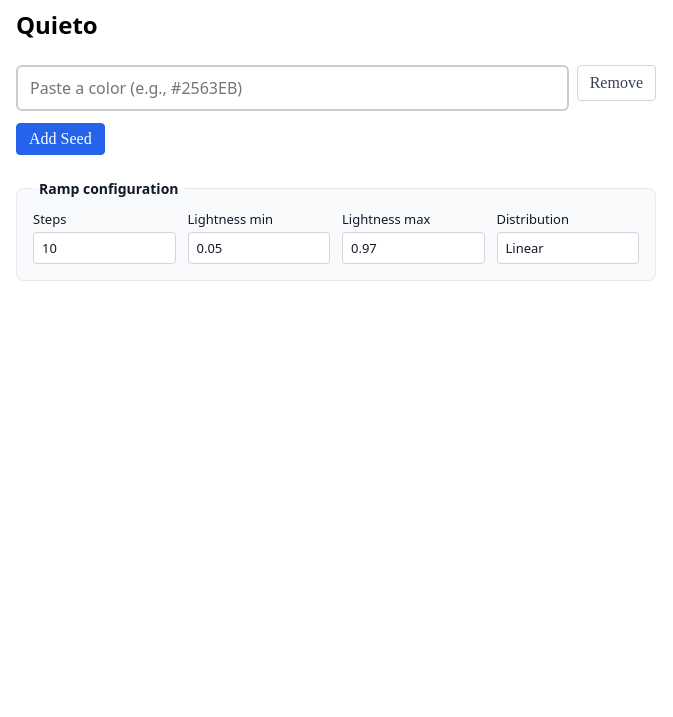
App › multiple seeds › renders two ramps when two seeds are entered
Type "#2563EB" into the field with placeholder "Paste a color (e.g., #2563EB)".
click(292, 88); type("#2563EB")  # box x1=16 y1=65 x2=569 y2=111
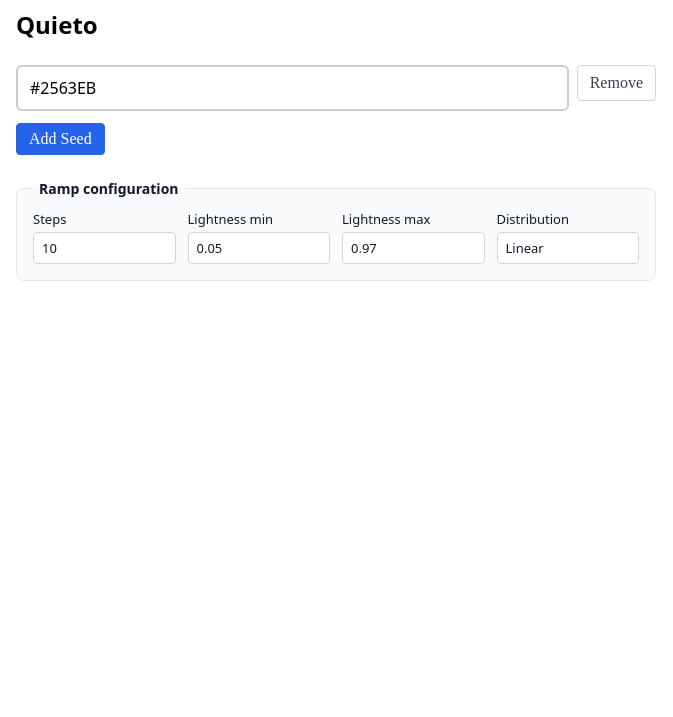
Press Enter in the field with placeholder "Paste a color (e.g., #2563EB)", box x1=16 y1=65 x2=569 y2=111
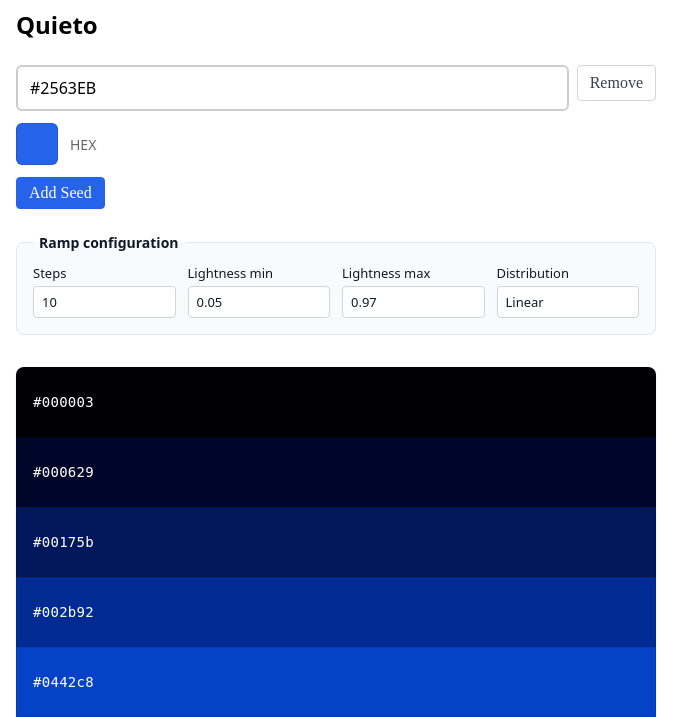
Click the button "Add Seed".
click(60, 193)  # box x1=16 y1=177 x2=105 y2=209
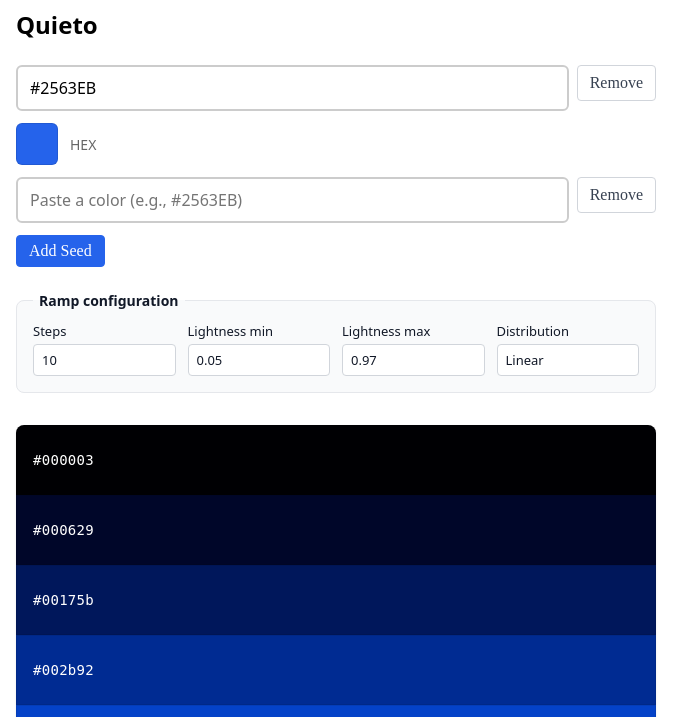
Type "#EB2525" into the field with placeholder "Paste a color (e.g., #2563EB)".
click(292, 200); type("#EB2525")  # box x1=16 y1=177 x2=569 y2=223
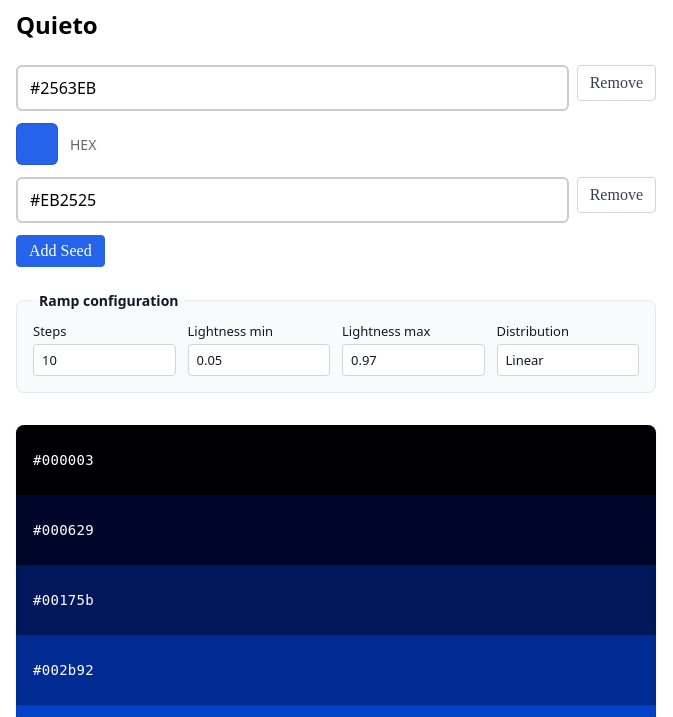
Press Enter in the field with placeholder "Paste a color (e.g., #2563EB)", box x1=16 y1=177 x2=569 y2=223
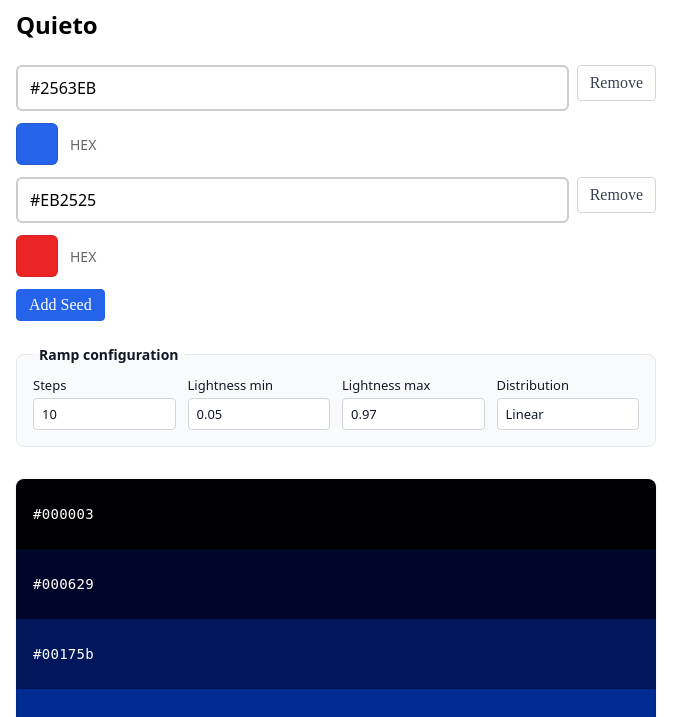
Check: the number of lists named "color ramp" is 2
